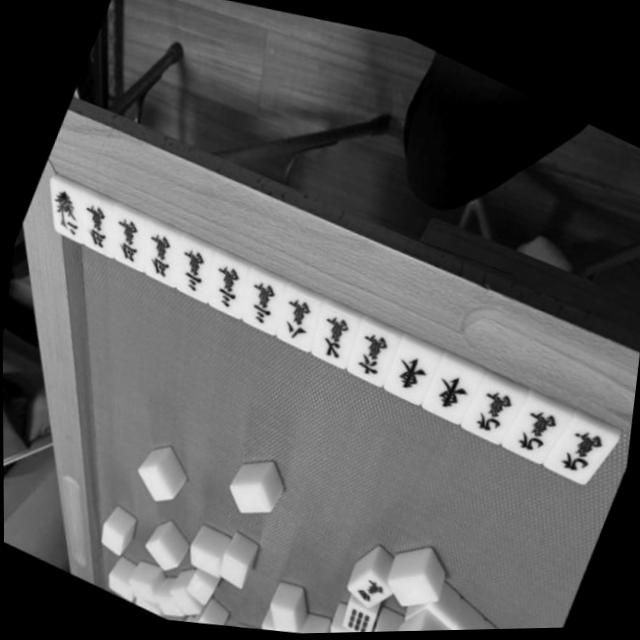bs2: (36, 180, 92, 244)
hwe: (382, 328, 440, 399), (423, 350, 480, 421)
sc3: (200, 253, 250, 316), (235, 268, 284, 330), (168, 238, 216, 300)
sc5: (103, 209, 152, 270), (71, 196, 120, 255), (135, 221, 182, 282)
sc6: (341, 315, 397, 382)
sc7: (306, 297, 359, 363)
sc8: (272, 285, 321, 346)
sc9: (552, 407, 609, 477), (506, 387, 563, 456), (464, 370, 520, 437)
